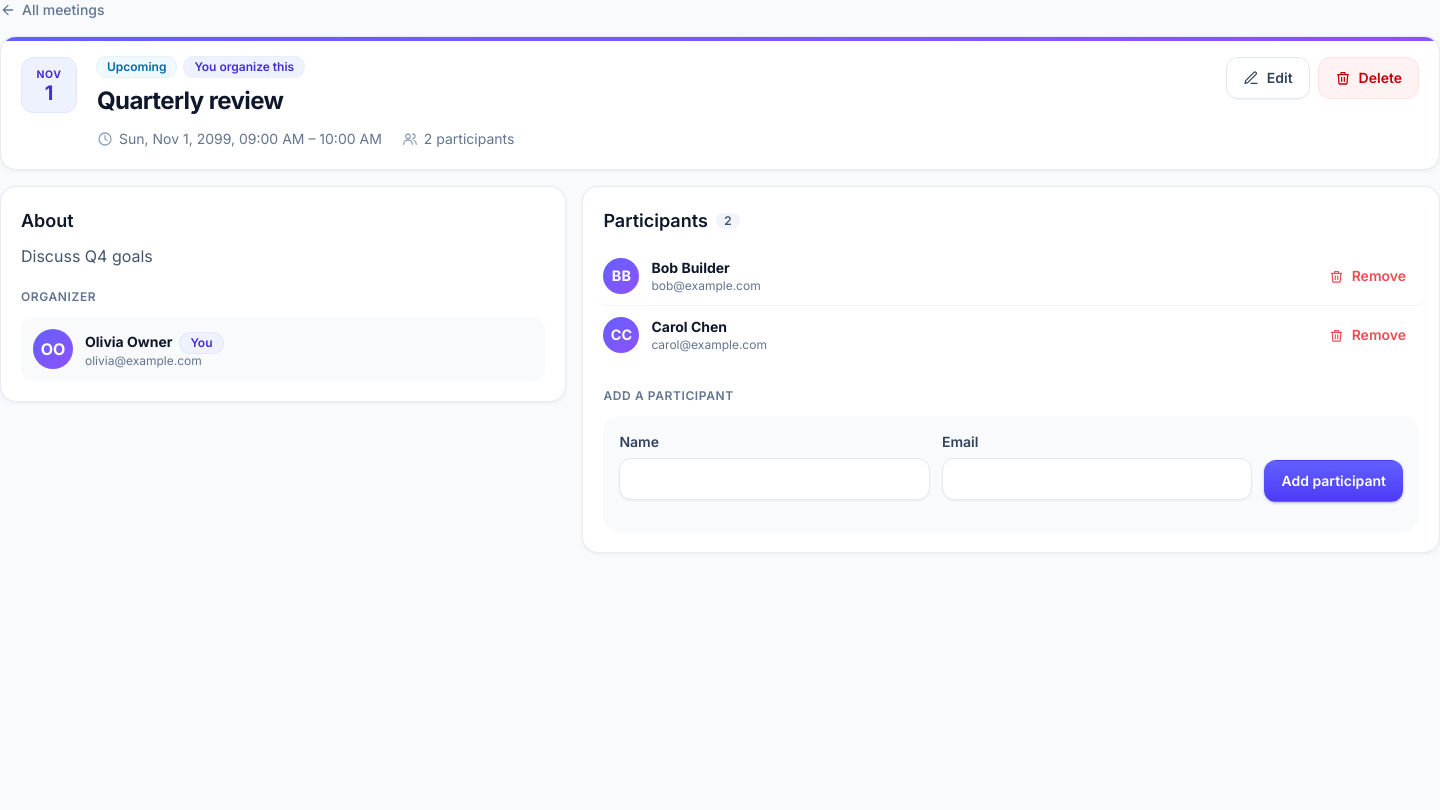
Test: MeetingDetailPage › asks for confirmation before removing and does nothing when cancelled
Expected: the heading "Quarterly review" is shown, [97,86,283,115]
Click the button with aria-label "Remove Bob Builder" at (1367, 276), box [1316,257,1419,295]
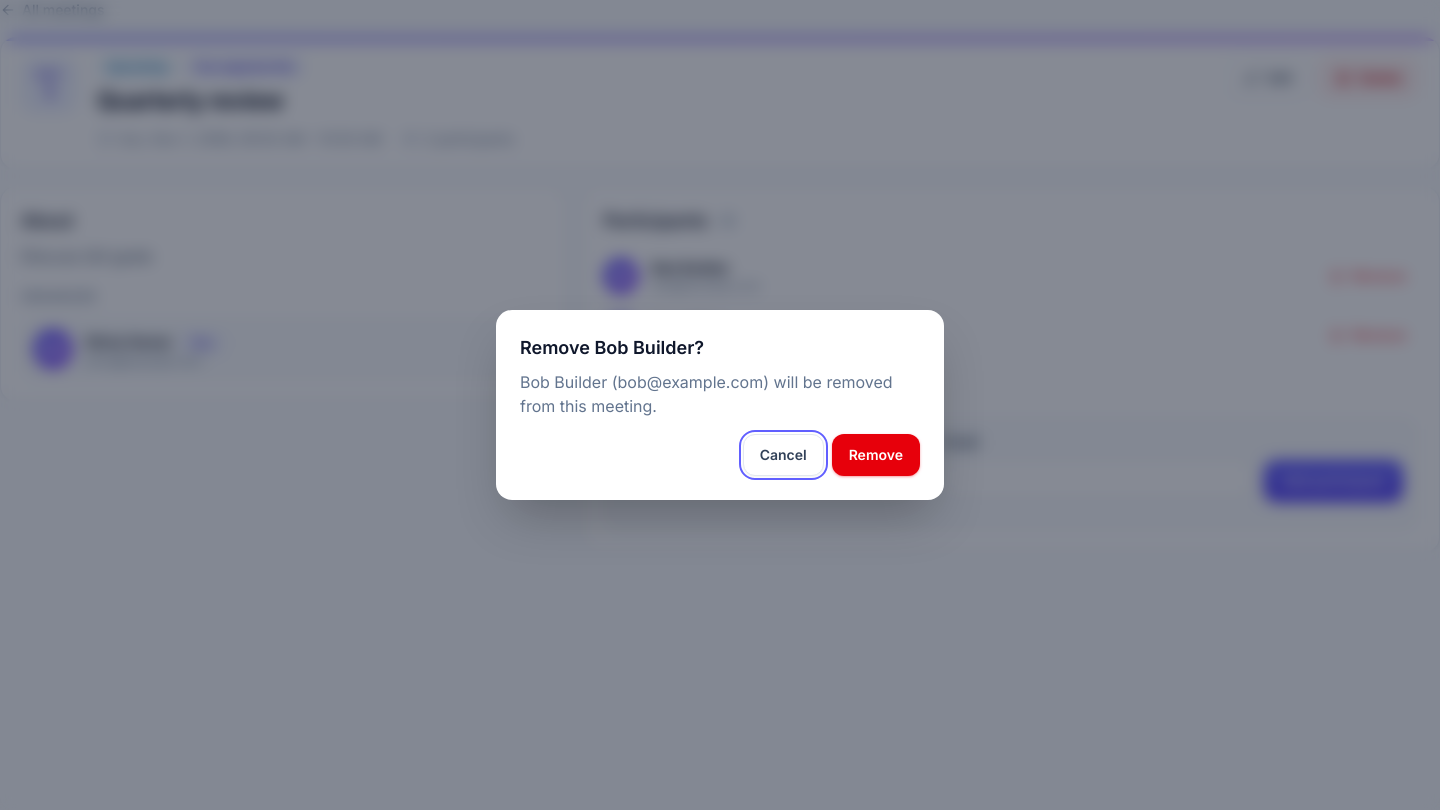
Press Escape
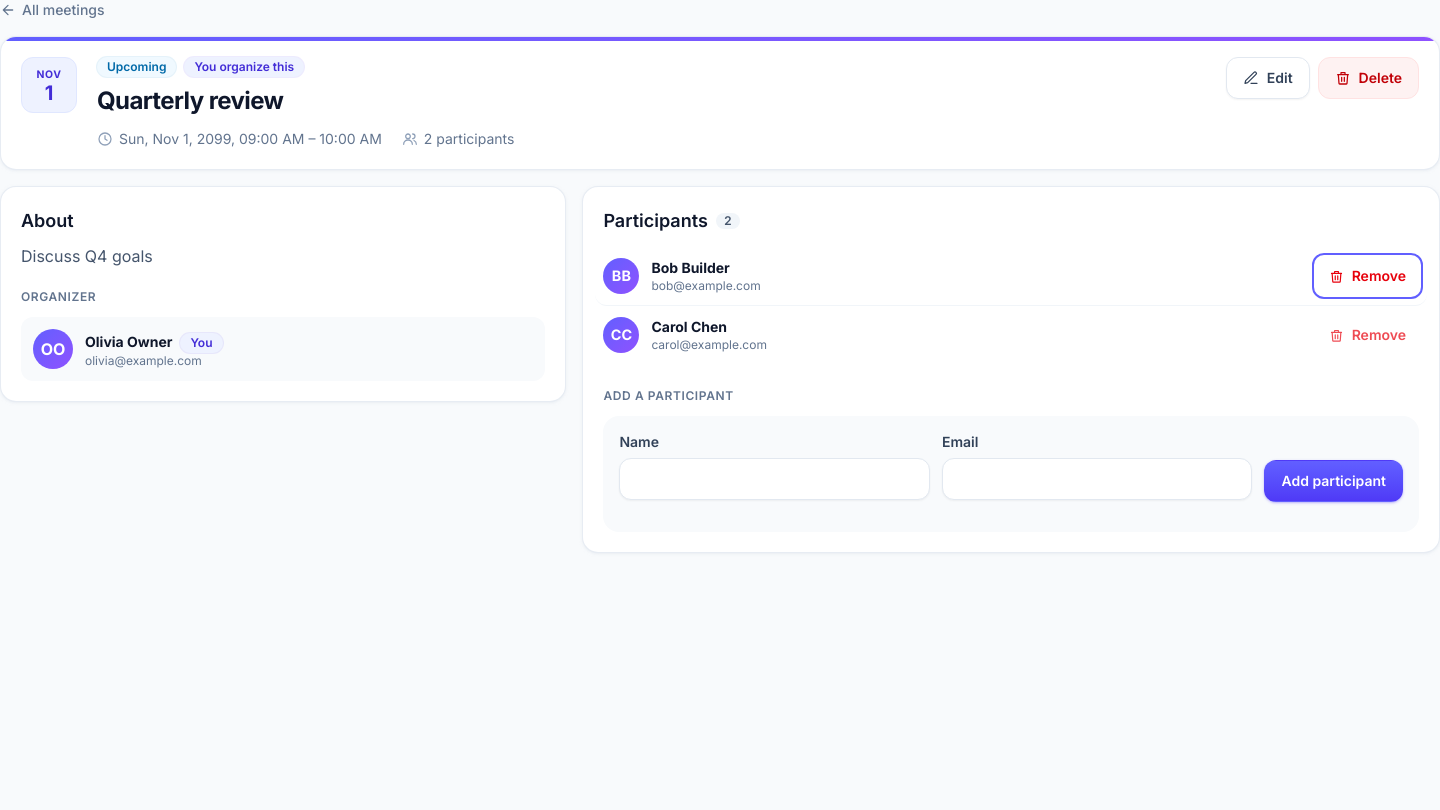
Result: the dialog is gone
